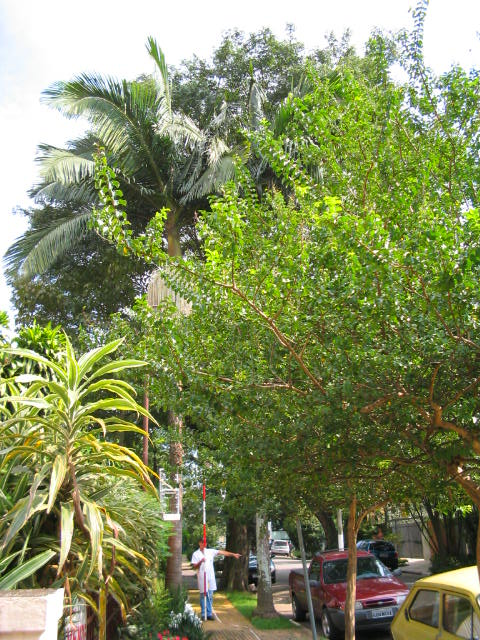stem: (246, 512, 285, 618), (218, 518, 254, 593)
stick: (198, 484, 212, 619)
